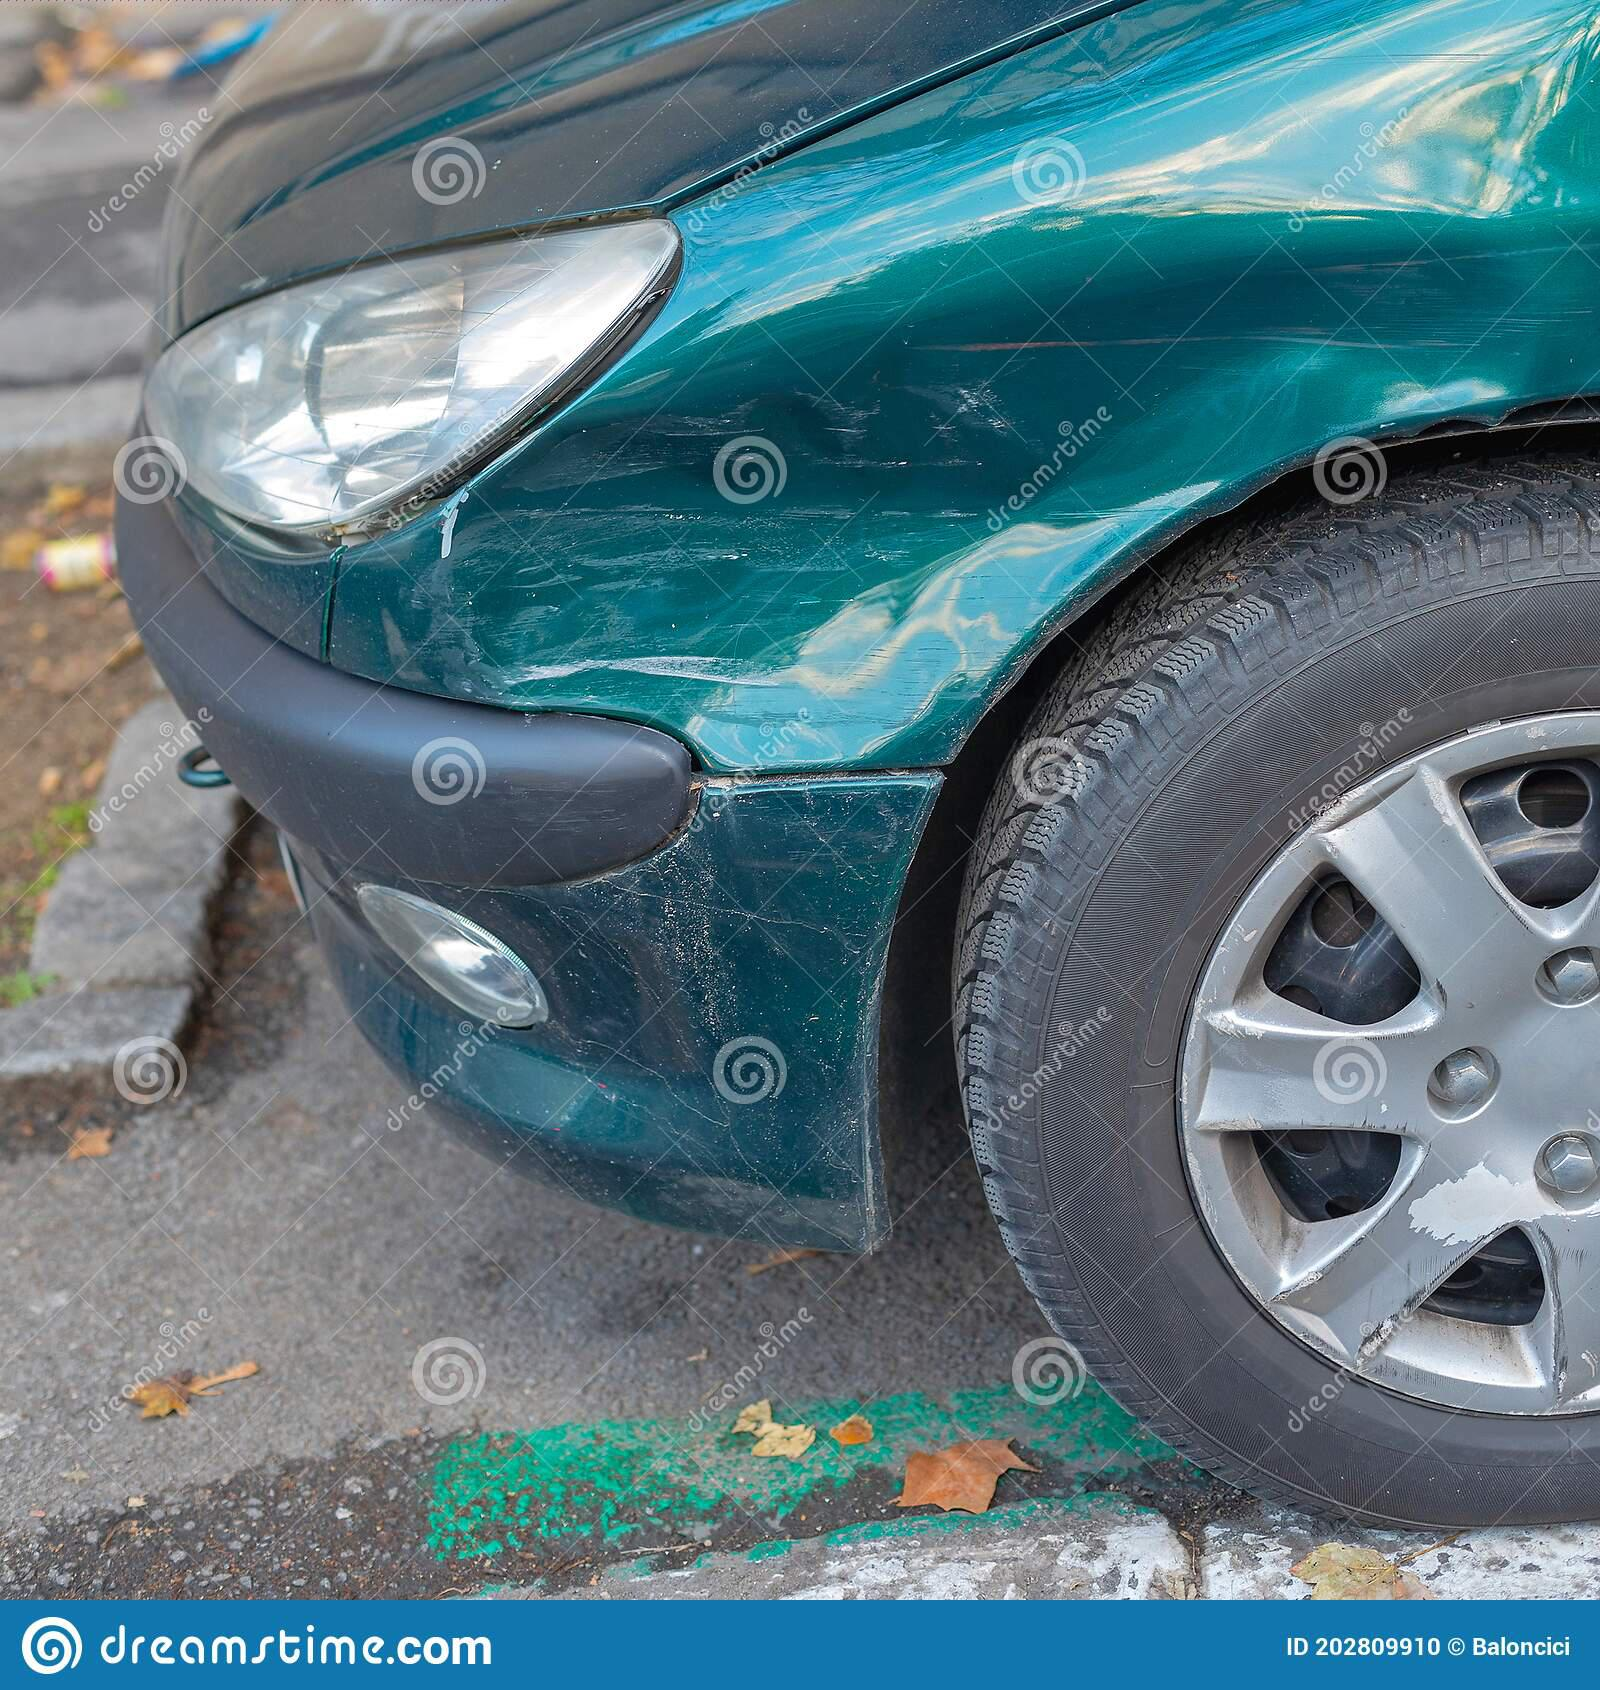fender-dent: (511, 96, 1598, 780)
